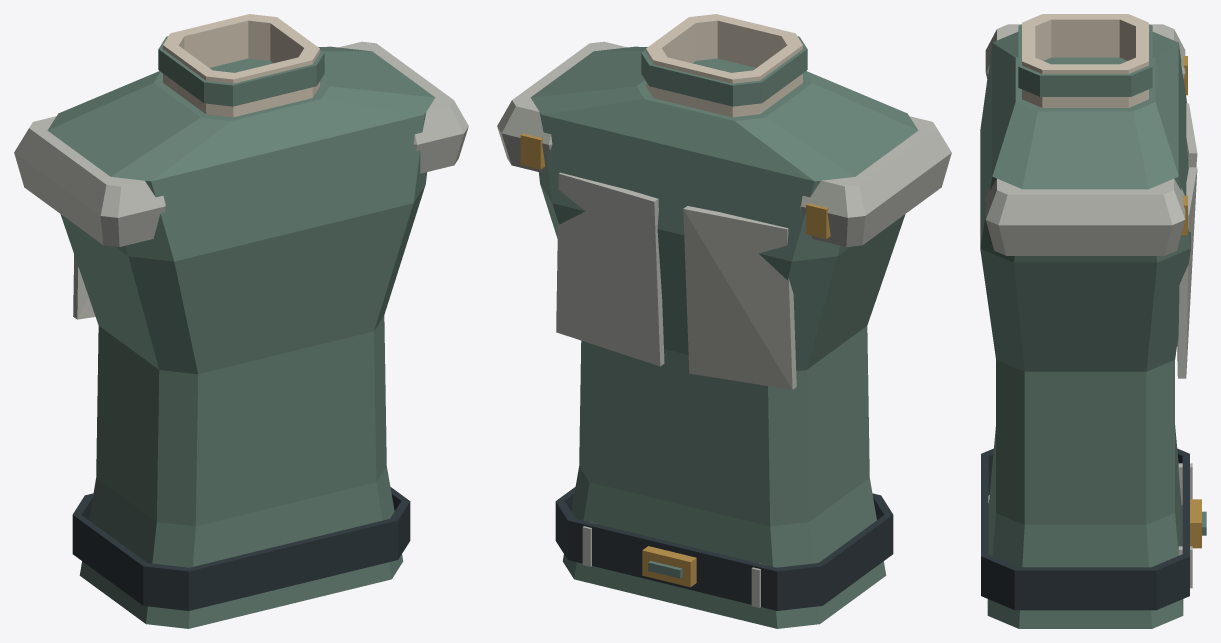
The picture shows the model from 3 angles, left to right: view 1: azimuth 30°, elevation 25°; view 2: azimuth 150°, elevation 25°; view 3: azimuth 270°, elevation 25°; orthographic projection.
Visible parts, largest first — view 1: 现有程序躯干 · 同用途配色; view 2: 现有程序躯干 · 同用途配色; view 3: 现有程序躯干 · 同用途配色.
Boxes of the visible parts, x1,y1,x2,y2 form: 现有程序躯干 · 同用途配色: [14, 14, 468, 628]; 现有程序躯干 · 同用途配色: [497, 14, 951, 628]; 现有程序躯干 · 同用途配色: [980, 14, 1206, 628].
Size of the model in its own units: 0.458 by 0.62 by 0.243.
Materials: 5 (5 with a texture image).
